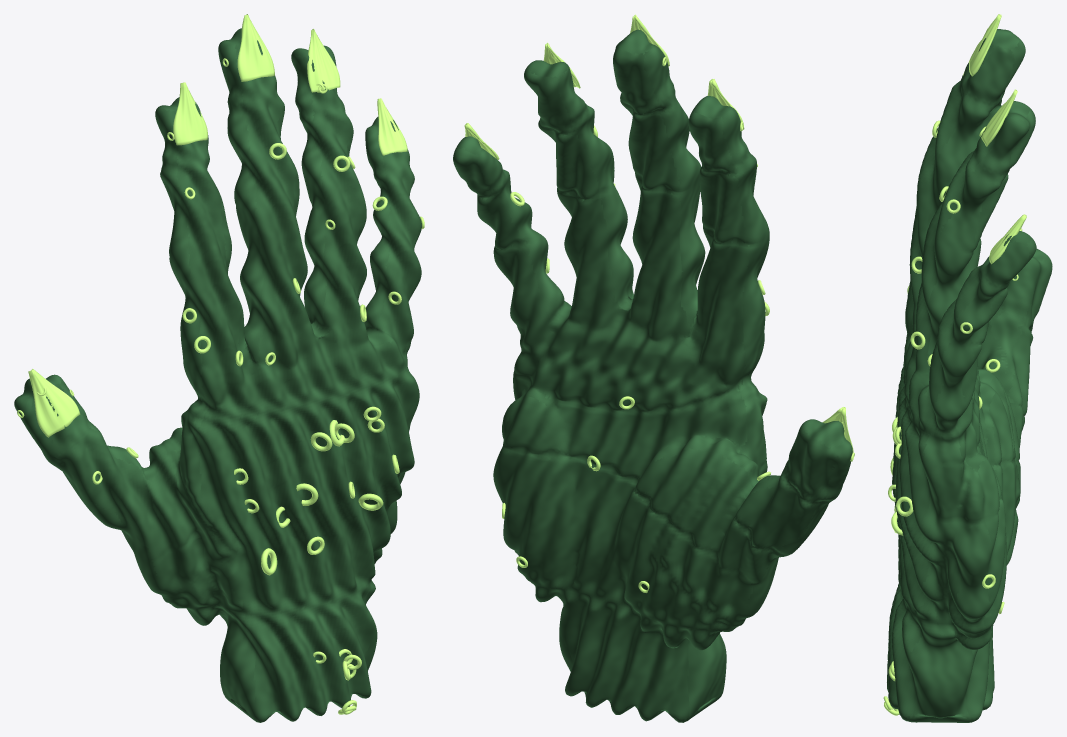
The model's file is family-01.glb.
3 renders of one model, left to right at view 1: azimuth 30°, elevation 25°; view 2: azimuth 150°, elevation 25°; view 3: azimuth 270°, elevation 25°, orthographic. The views are drawn at different scales.
Parts seen in each view (by area): view 1: fingers__fingers_sculpt, back_of_hand__back_of_hand_sculpt, wrist__wrist_sculpt, fingertips__fingertips_sculpt, back_of_hand, palm__palm_sculpt, nails__thumb_claw, fingers, nails__middle_claw, nails__index_claw, nails__ring_claw, nails__pinky_claw (+1 smaller); view 2: fingers__fingers_sculpt, palm__palm_sculpt, wrist__wrist_sculpt, fingertips__fingertips_sculpt; view 3: fingers__fingers_sculpt, palm__palm_sculpt, wrist__wrist_sculpt, back_of_hand__back_of_hand_sculpt, fingertips__fingertips_sculpt, fingers, back_of_hand, nails__middle_claw, nails__ring_claw, nails__pinky_claw.
Boxes of the visible parts, bbox=[...] form: fingers__fingers_sculpt: bbox=[45, 93, 421, 597]; back_of_hand__back_of_hand_sculpt: bbox=[182, 365, 419, 614]; wrist__wrist_sculpt: bbox=[172, 562, 377, 722]; fingertips__fingertips_sculpt: bbox=[14, 28, 410, 457]; back_of_hand: bbox=[234, 406, 399, 575]; palm__palm_sculpt: bbox=[162, 409, 405, 607]; nails__thumb_claw: bbox=[28, 369, 80, 437]; fingers: bbox=[92, 143, 424, 484]; nails__middle_claw: bbox=[237, 14, 274, 81]; nails__index_claw: bbox=[173, 82, 207, 145]; nails__ring_claw: bbox=[307, 29, 340, 92]; nails__pinky_claw: bbox=[377, 98, 407, 155]; fingers__fingers_sculpt: bbox=[468, 87, 840, 621]; palm__palm_sculpt: bbox=[493, 347, 762, 631]; wrist__wrist_sculpt: bbox=[526, 578, 734, 722]; fingertips__fingertips_sculpt: bbox=[453, 29, 852, 498]; fingers__fingers_sculpt: bbox=[903, 79, 1033, 508]; palm__palm_sculpt: bbox=[943, 364, 1018, 635]; wrist__wrist_sculpt: bbox=[887, 583, 994, 722]; back_of_hand__back_of_hand_sculpt: bbox=[892, 367, 944, 623]; fingertips__fingertips_sculpt: bbox=[961, 29, 1052, 322]; fingers: bbox=[907, 120, 1000, 372]; back_of_hand: bbox=[888, 417, 913, 535]; nails__middle_claw: bbox=[968, 14, 1001, 76]; nails__ring_claw: bbox=[981, 89, 1017, 146]; nails__pinky_claw: bbox=[989, 214, 1026, 264].
Size of the model in its own units: 0.1327 by 0.2258 by 0.051.
Materials: 2 (1 with a texture image).
